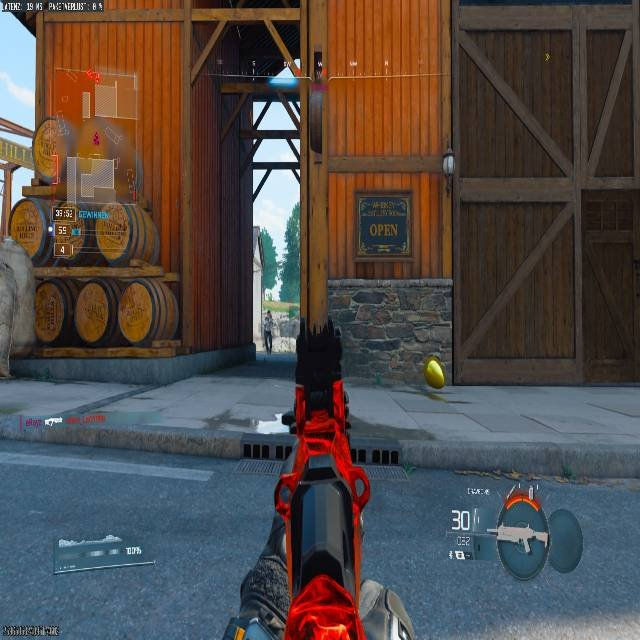head: (265, 310, 271, 317)
player: (262, 311, 274, 355)
